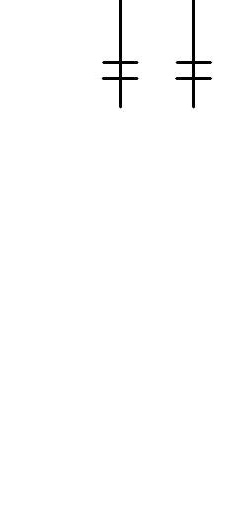115_buffer: (175, 61, 212, 80), (102, 61, 139, 80)
